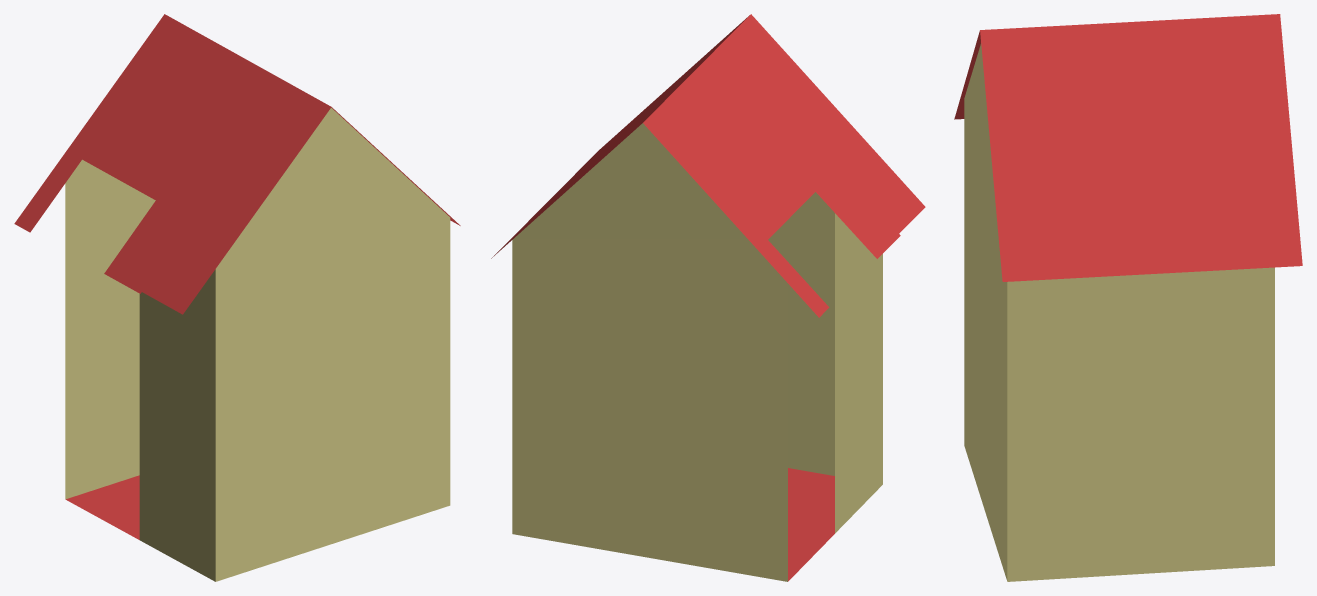
3 views of the same model, side by side, from view 1: azimuth 30°, elevation 25°; view 2: azimuth 150°, elevation 25°; view 3: azimuth 270°, elevation 25° (orthographic). The views are drawn at different scales.
Size of the model in its own units: 10.48 by 8.68 by 13.25.
